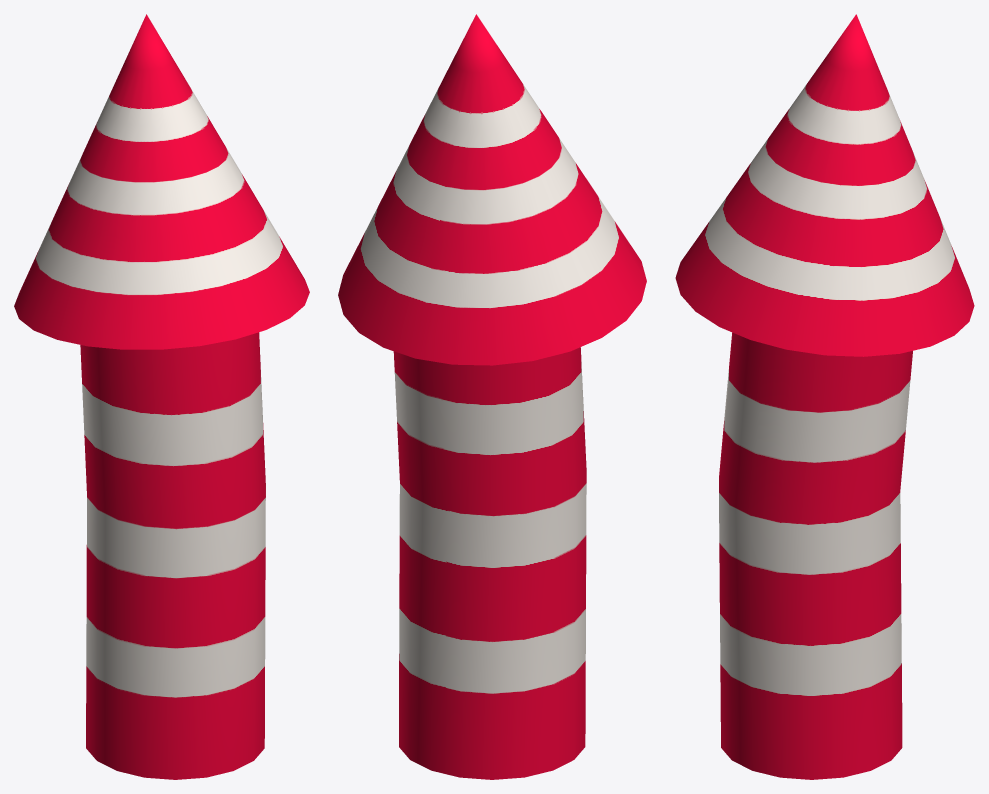
File: firework.fbx
3 renders of one model, left to right at view 1: azimuth 30°, elevation 25°; view 2: azimuth 150°, elevation 25°; view 3: azimuth 270°, elevation 25°, orthographic. The views are drawn at different scales.
Parts seen in each view (by area): view 1: Cone001; view 2: Cone001; view 3: Cone001.
Boxes of the visible parts, box(x1,y1,x2,y2) form: Cone001: box(14, 14, 309, 779); Cone001: box(338, 14, 646, 779); Cone001: box(675, 14, 974, 779).
Size of the model in its own units: 53.35 by 142 by 53.07.
